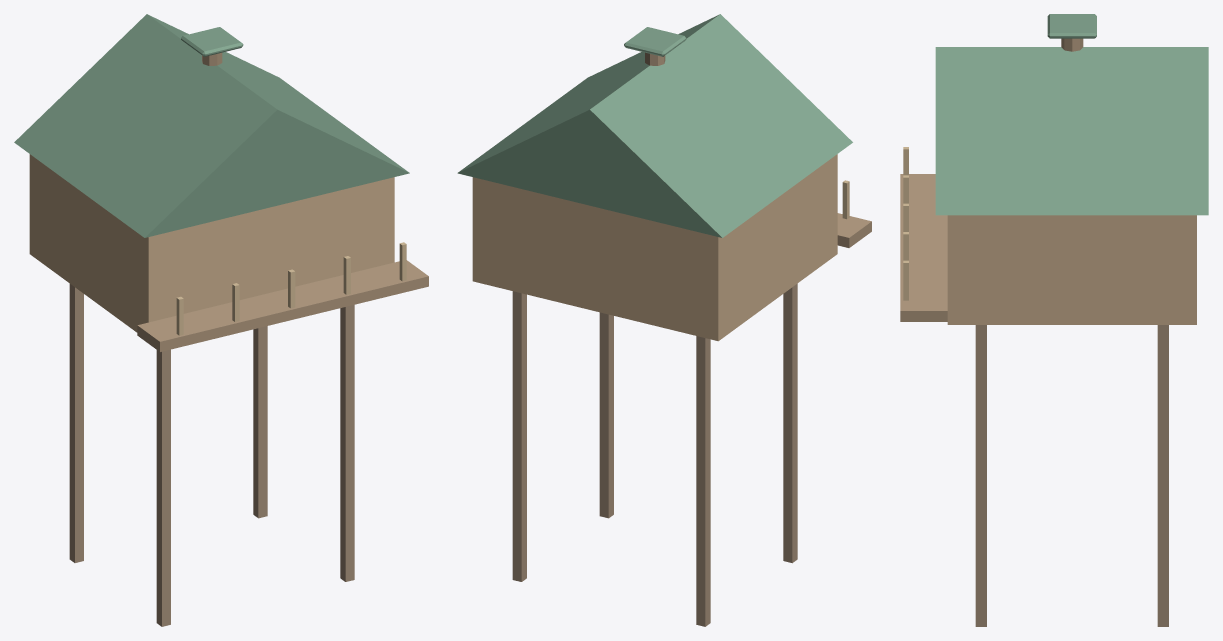
The model's file is ranger_lookout_near-CS8DK0jy.glb.
3 renders of one model, left to right at view 1: azimuth 30°, elevation 25°; view 2: azimuth 150°, elevation 25°; view 3: azimuth 270°, elevation 25°, orthographic. The views are drawn at different scales.
Parts seen in each view (by area): view 1: ranger_lookout_near; view 2: ranger_lookout_near; view 3: ranger_lookout_near.
Part boxes in pixels (bbox=[...]): ranger_lookout_near: bbox=[14, 14, 428, 626]; ranger_lookout_near: bbox=[457, 14, 871, 626]; ranger_lookout_near: bbox=[900, 14, 1208, 626].
Size of the model in its own units: 8.2 by 15.46 by 7.8.
